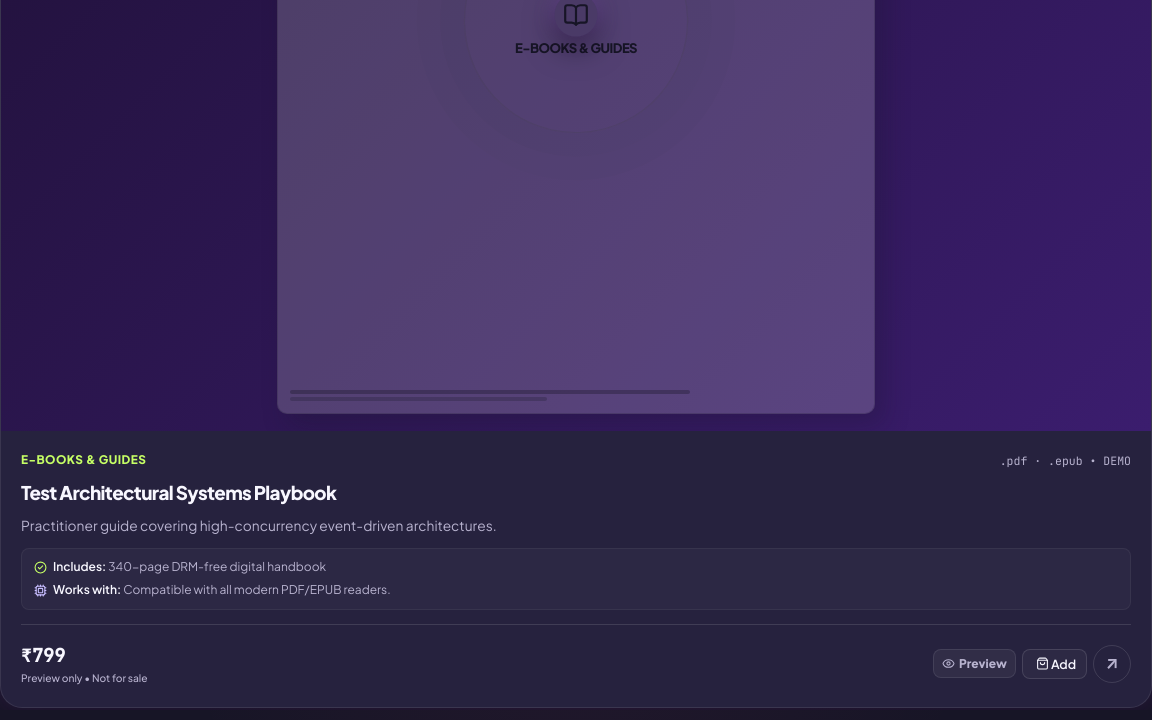
it: Product Quick View Modal & Portal Functionality › renders preview modal inside document.body via a portal, outside the card container
(page scrolled)
# Click Preview button
Click the button "Preview". click: (974, 664)
box: x1=933 y1=649 x2=1016 y2=678
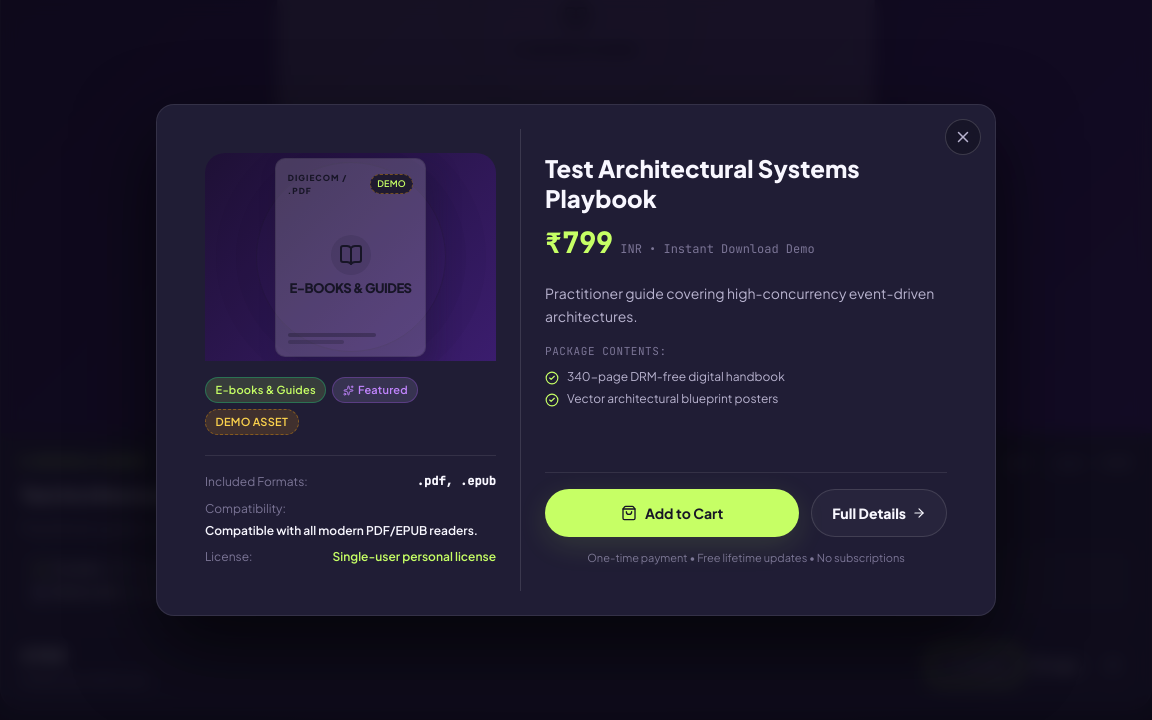
Result: the dialog named "Test Architectural Systems Playbook" is shown at x1=156 y1=104 x2=996 y2=616
Result: the button named "Close quick view" is shown at x1=945 y1=119 x2=981 y2=155
